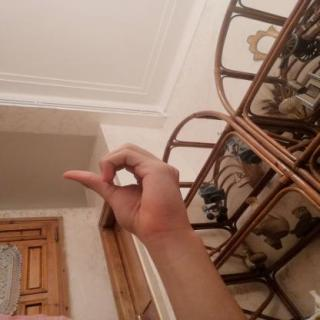WAW: (52, 136, 200, 250)
